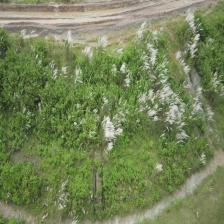vegetation: (0, 39, 188, 144)
